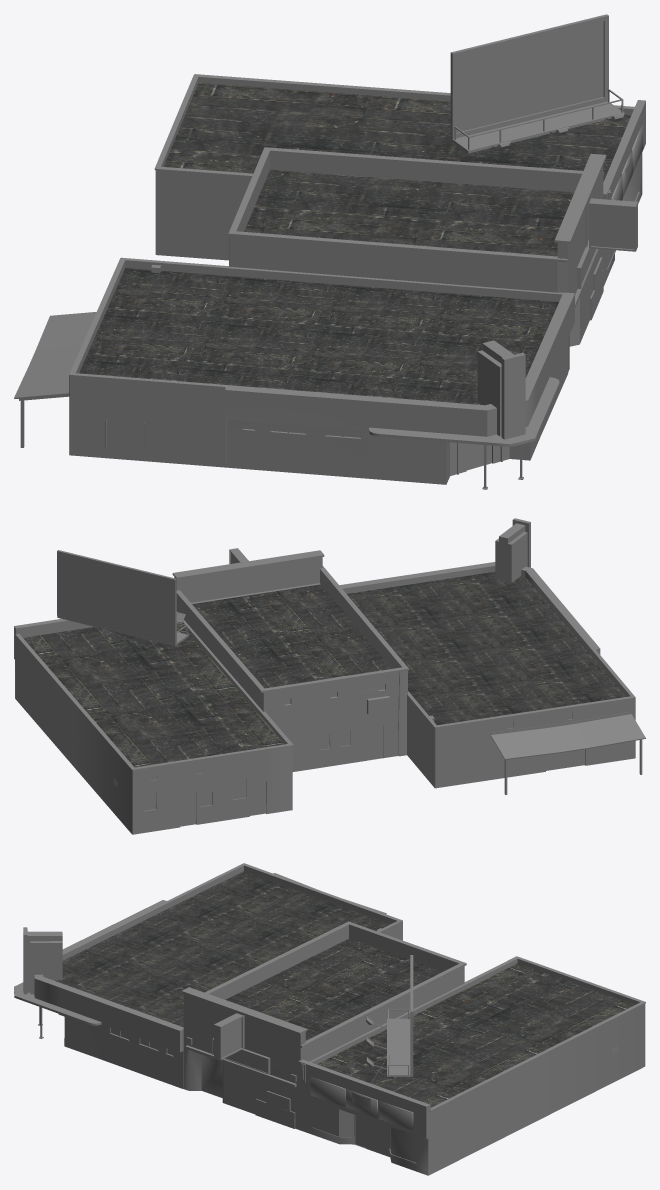
File: sc1_11_trio_gta.FBX
3 views of the same model, one above another, from view 1: azimuth 30°, elevation 25°; view 2: azimuth 150°, elevation 25°; view 3: azimuth 270°, elevation 25° (orthographic). The views are drawn at different scales.
Visible parts, largest first — view 1: sc1_11_trio; view 2: sc1_11_trio; view 3: sc1_11_trio.
Part boxes in pixels (x1,y1,x2,y2): sc1_11_trio: (14,14,645,489); sc1_11_trio: (14,518,645,834); sc1_11_trio: (14,863,645,1175).
Size of the model in its own units: 50.97 by 13.26 by 51.14.
2 materials, 1 textured.
